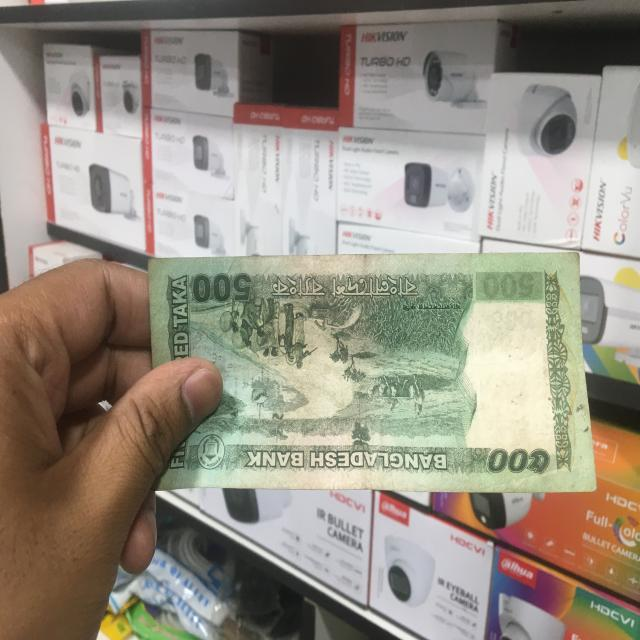Taka: (149, 258, 592, 487)
